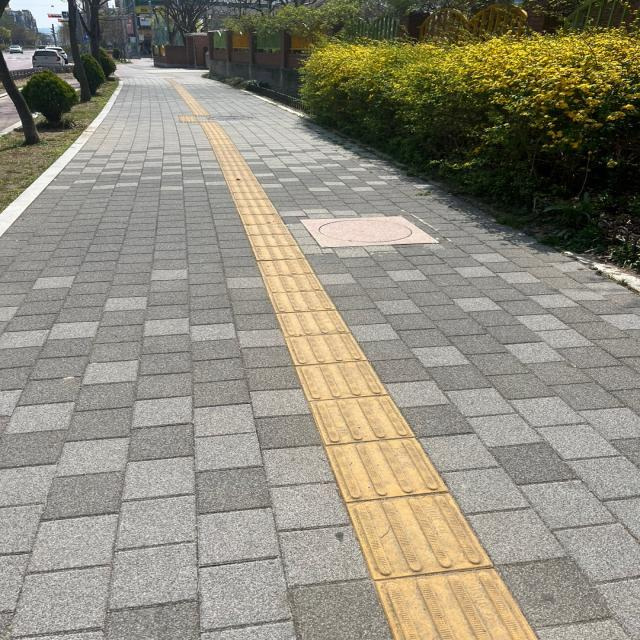Sewer Cover: (286, 203, 446, 285), (211, 106, 259, 128)
